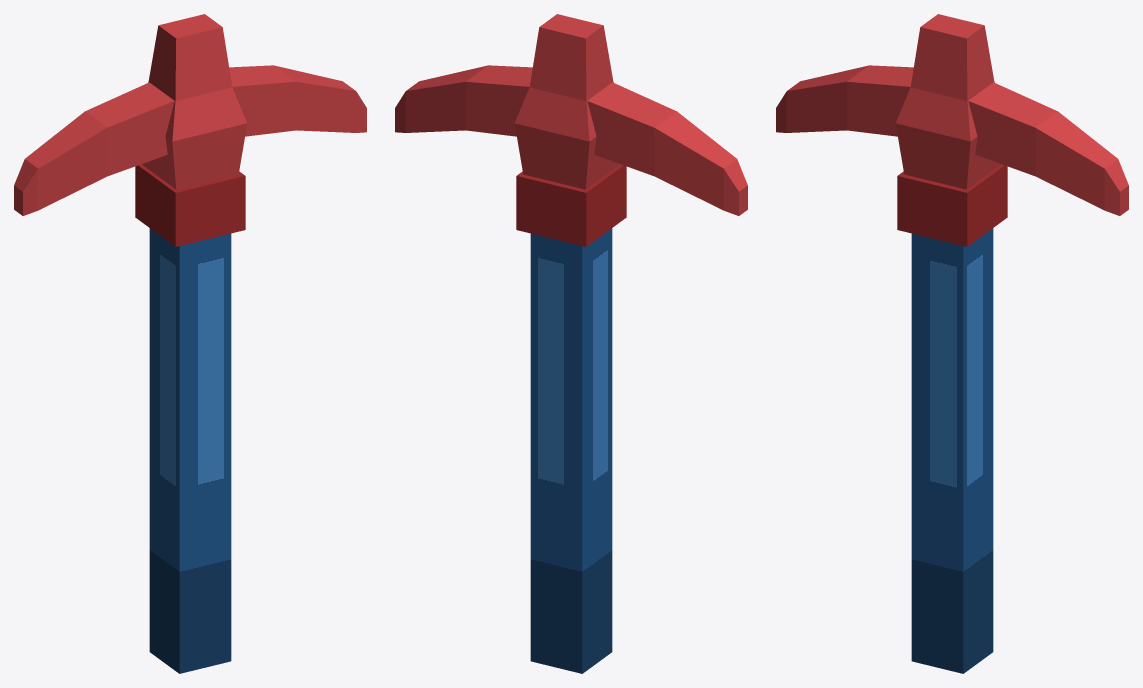
The model's file is coral_pickaxe.obj.
3 renders of one model, left to right at view 1: azimuth 30°, elevation 25°; view 2: azimuth 150°, elevation 25°; view 3: azimuth 330°, elevation 25°, orthographic.
Visible parts, largest first — view 1: shaft, seated_coral_crown, left_coral_pick, right_coral_pick, socket; view 2: shaft, seated_coral_crown, left_coral_pick, right_coral_pick, socket; view 3: shaft, seated_coral_crown, right_coral_pick, left_coral_pick, socket.
Boxes of the visible parts, left/top/right/bottom form: shaft: left=149, top=228, right=231, bottom=673; seated_coral_crown: left=142, top=14, right=247, bottom=189; left_coral_pick: left=14, top=82, right=174, bottom=215; right_coral_pick: left=229, top=65, right=366, bottom=136; socket: left=135, top=164, right=245, bottom=246; shaft: left=530, top=228, right=612, bottom=673; seated_coral_crown: left=514, top=14, right=619, bottom=189; left_coral_pick: left=587, top=82, right=747, bottom=215; right_coral_pick: left=395, top=65, right=532, bottom=136; socket: left=516, top=164, right=626, bottom=246; shaft: left=911, top=228, right=993, bottom=673; seated_coral_crown: left=895, top=14, right=1000, bottom=189; right_coral_pick: left=968, top=82, right=1128, bottom=215; left_coral_pick: left=776, top=65, right=913, bottom=136; socket: left=897, top=164, right=1007, bottom=246.
Size of the model in its own units: 0.8312 by 1.46 by 0.1688.
